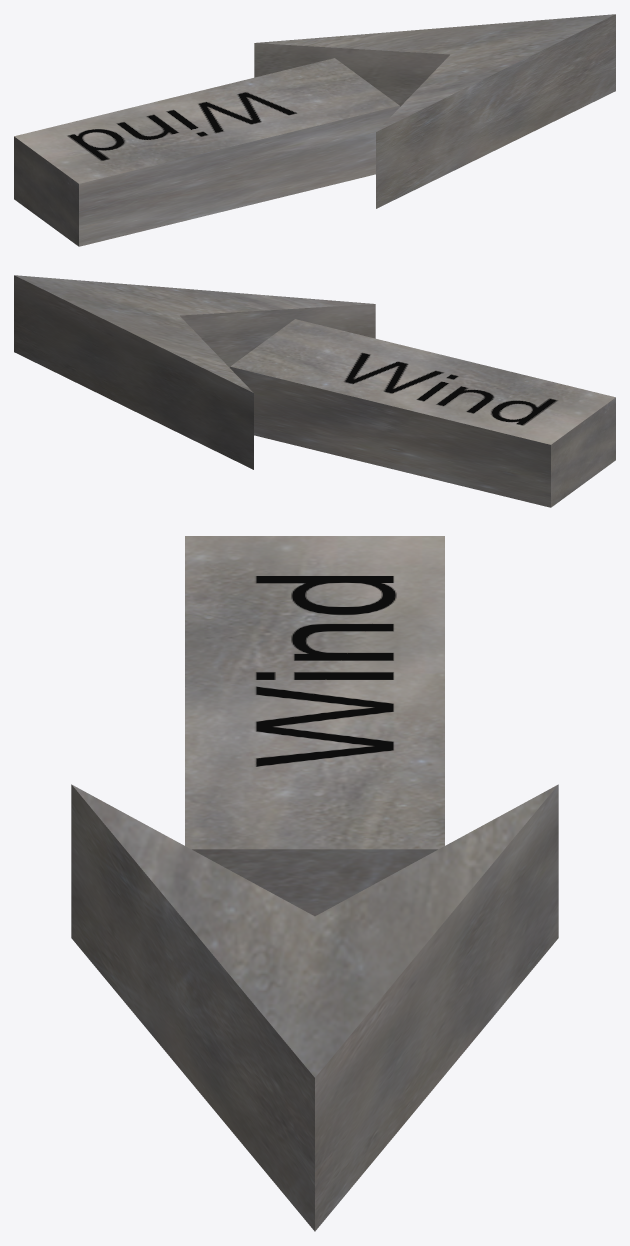
File: WindHud.obj
3 views of the same model, one above another, from view 1: azimuth 30°, elevation 25°; view 2: azimuth 150°, elevation 25°; view 3: azimuth 270°, elevation 25° (orthographic). The views are drawn at different scales.
Parts seen in each view (by area): view 1: Cube.001; view 2: Cube.001; view 3: Cube.001.
Boxes of the visible parts, x1,y1,x2,y2 form: Cube.001: [14, 14, 615, 246]; Cube.001: [14, 275, 615, 507]; Cube.001: [71, 536, 558, 1231].
Bounding box in the file's own units: 4.32 × 0.5583 × 1.6.
Materials: 1 (1 with a texture image).
